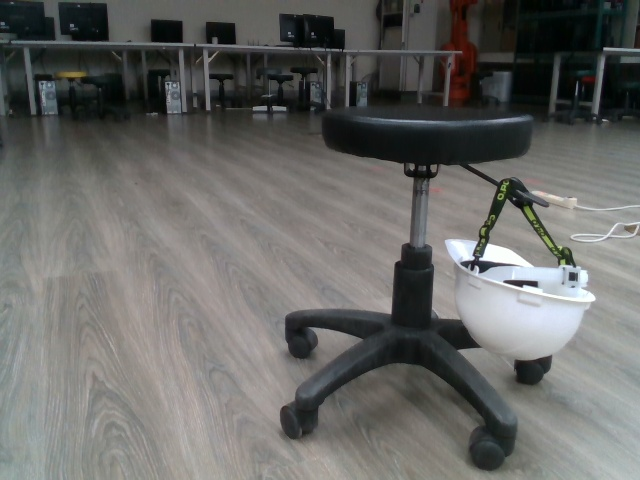helmet: (444, 227, 598, 364)
